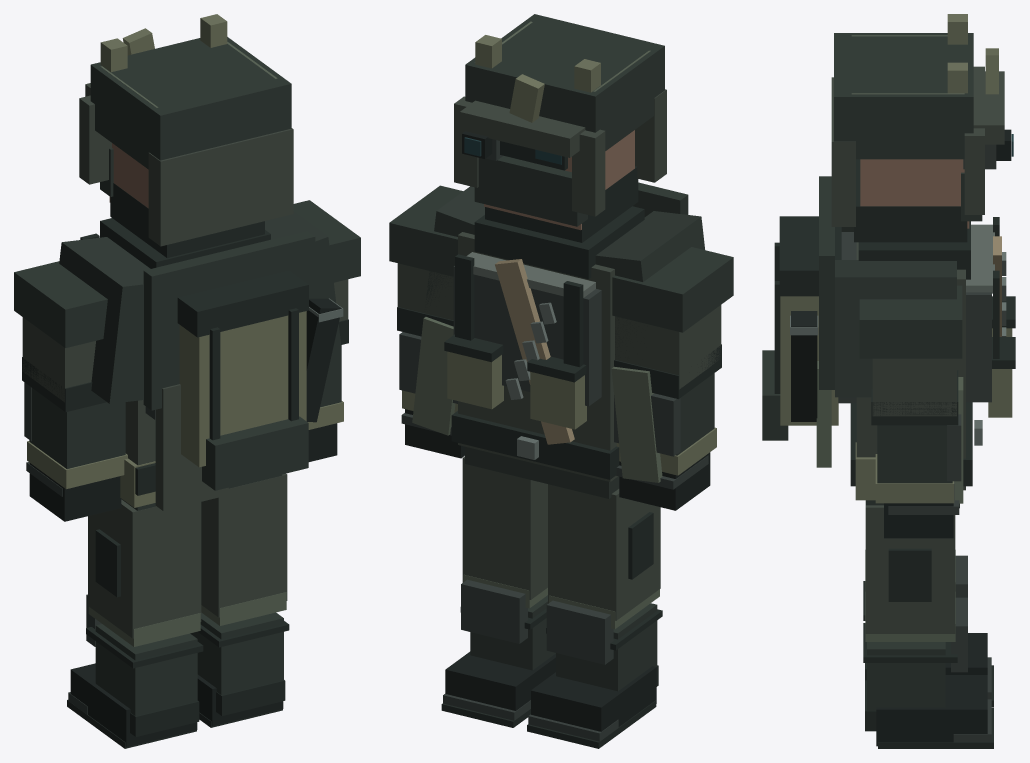
Rendered from marksman.glb.
3 views of the same model, side by side, from view 1: azimuth 30°, elevation 25°; view 2: azimuth 150°, elevation 25°; view 3: azimuth 270°, elevation 25° (orthographic).
Visible parts, largest first — view 1: Merged_material (×13), Upper trouser L, Upper trouser R, Lower trouser L, Lower trouser R, Upper sleeve L, Field boot L, Glove L, Spotting scope case, Wrist wrap L, Knee fold L, Elbow wrap L (+5 smaller); view 2: Merged_material (×19), Upper trouser L, Upper trouser R, Upper sleeve L, Field boot L, Field boot R, Lower trouser L, Rifle ammunition bandolier, Upper sleeve R, Lower trouser R, Glove L, Carrier upper strap (+6 smaller); view 3: Merged_material (×16), Upper trouser R, Field boot R, Upper sleeve R, Face, Lower trouser R, Spotting scope case, Glove R, Wrist wrap R, Elbow wrap R, Carrier upper strap, Field boot L (+2 smaller).
Part boxes in pixels (box(x1,y1,x2,y2)): Merged_material (×13): box(14, 14, 360, 748); Upper trouser L: box(88, 499, 201, 638); Upper trouser R: box(201, 473, 287, 617); Lower trouser L: box(95, 624, 197, 716); Lower trouser R: box(190, 612, 283, 694); Upper sleeve L: box(22, 317, 95, 402); Field boot L: box(70, 663, 197, 746); Glove L: box(29, 463, 121, 521); Spotting scope case: box(306, 298, 341, 422); Wrist wrap L: box(27, 441, 127, 489); Knee fold L: box(88, 607, 200, 646); Elbow wrap L: box(22, 357, 106, 412); Merged_material (×19): box(389, 14, 733, 748); Upper trouser L: box(548, 484, 660, 620); Upper trouser R: box(462, 456, 547, 599); Upper sleeve L: box(615, 305, 721, 389); Field boot L: box(531, 666, 656, 731); Field boot R: box(445, 651, 555, 710); Lower trouser L: box(556, 603, 657, 691); Rifle ammunition bandolier: box(495, 259, 574, 444); Upper sleeve R: box(397, 263, 453, 320); Lower trouser R: box(470, 595, 555, 670); Glove L: box(619, 452, 710, 510); Carrier upper strap: box(466, 252, 595, 297); Merged_material (×16): box(762, 14, 1015, 748); Upper trouser R: box(865, 500, 955, 633); Field boot R: box(876, 675, 987, 746); Upper sleeve R: box(872, 358, 956, 416); Face: box(860, 159, 969, 228); Lower trouser R: box(867, 642, 945, 710); Spotting scope case: box(791, 311, 817, 421); Glove R: box(884, 503, 953, 538); Wrist wrap R: box(875, 454, 954, 503); Elbow wrap R: box(871, 370, 958, 425); Carrier upper strap: box(966, 224, 994, 293); Field boot L: box(945, 633, 987, 674).
Bounding box in the file's own units: 0.955 × 2.06 × 0.71.
